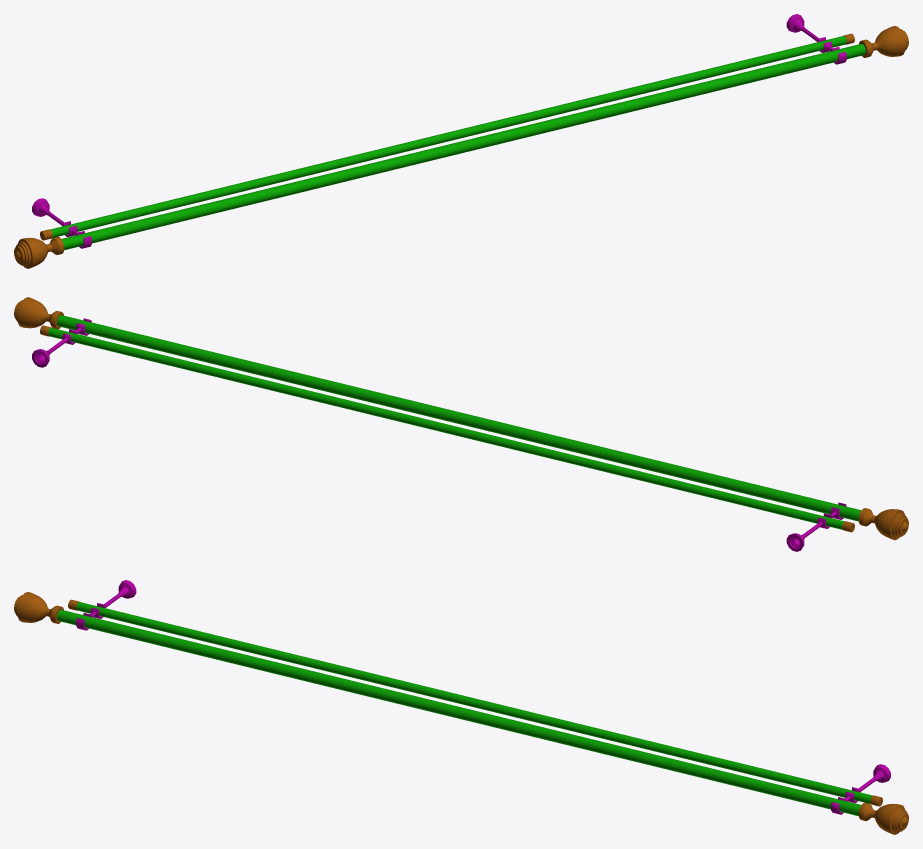
The model's file is 60_Wood_cornice.fbx.
3 renders of one model, top to bottom at view 1: azimuth 30°, elevation 25°; view 2: azimuth 150°, elevation 25°; view 3: azimuth 330°, elevation 25°, orthographic.
Visible parts, largest first — view 1: SM_wood_cornice_2.0; view 2: SM_wood_cornice_2.0; view 3: SM_wood_cornice_2.0.
Boxes of the visible parts, bbox=[...] form: SM_wood_cornice_2.0: bbox=[14, 14, 908, 268]; SM_wood_cornice_2.0: bbox=[14, 297, 908, 551]; SM_wood_cornice_2.0: bbox=[14, 580, 908, 834].
Size of the model in its own units: 221 by 6.65 by 22.17.
